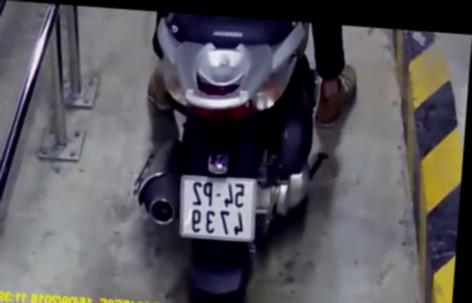License_Plate: (169, 170, 271, 249)
